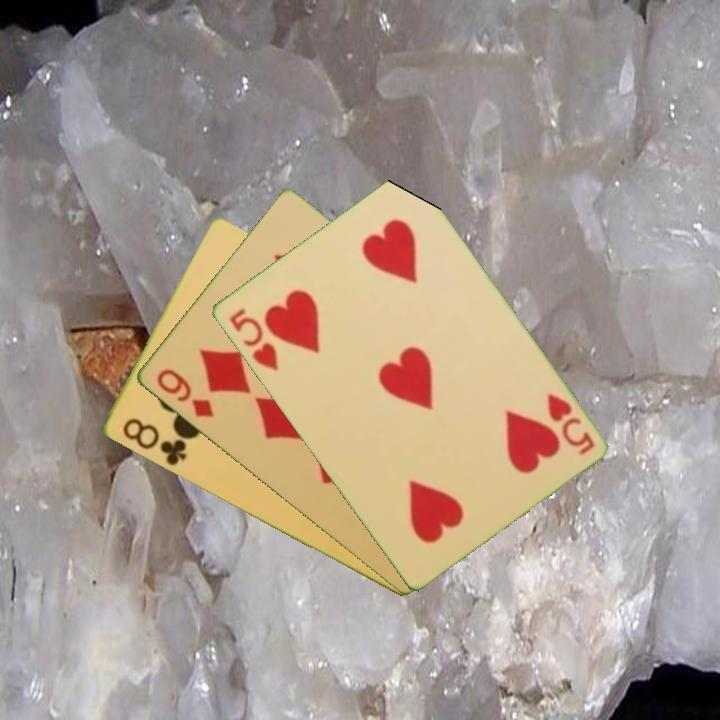5h: (225, 304, 281, 375), (542, 390, 597, 459)
8c: (118, 414, 189, 469)
9d: (152, 365, 217, 421)
